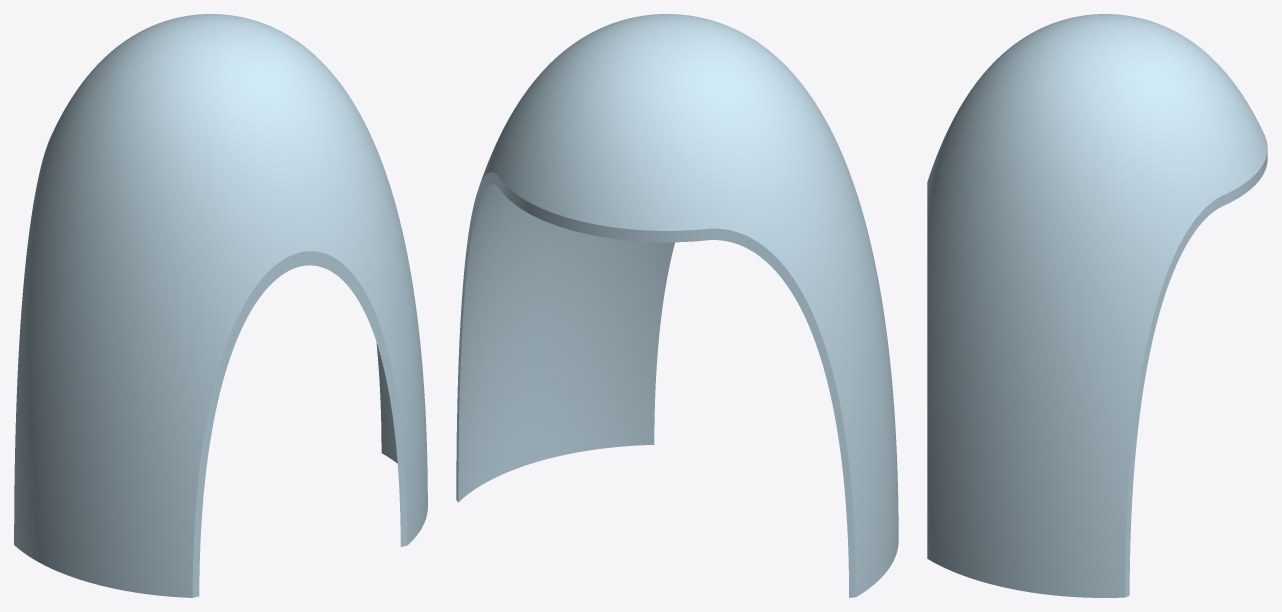
File: Assembly 1 - Front Window.gltf
3 views of the same model, side by side, from view 1: azimuth 30°, elevation 25°; view 2: azimuth 150°, elevation 25°; view 3: azimuth 270°, elevation 25° (orthographic). The views are drawn at different scales.
Visible parts, largest first — view 1: Front Window; view 2: Front Window; view 3: Front Window.
Part boxes in pixels (x1=…): Front Window: x1=14, y1=14, x2=427, y2=597; Front Window: x1=456, y1=14, x2=898, y2=597; Front Window: x1=927, y1=14, x2=1267, y2=597.
Bounding box in the file's own units: 4 × 4.87 × 3.14.
